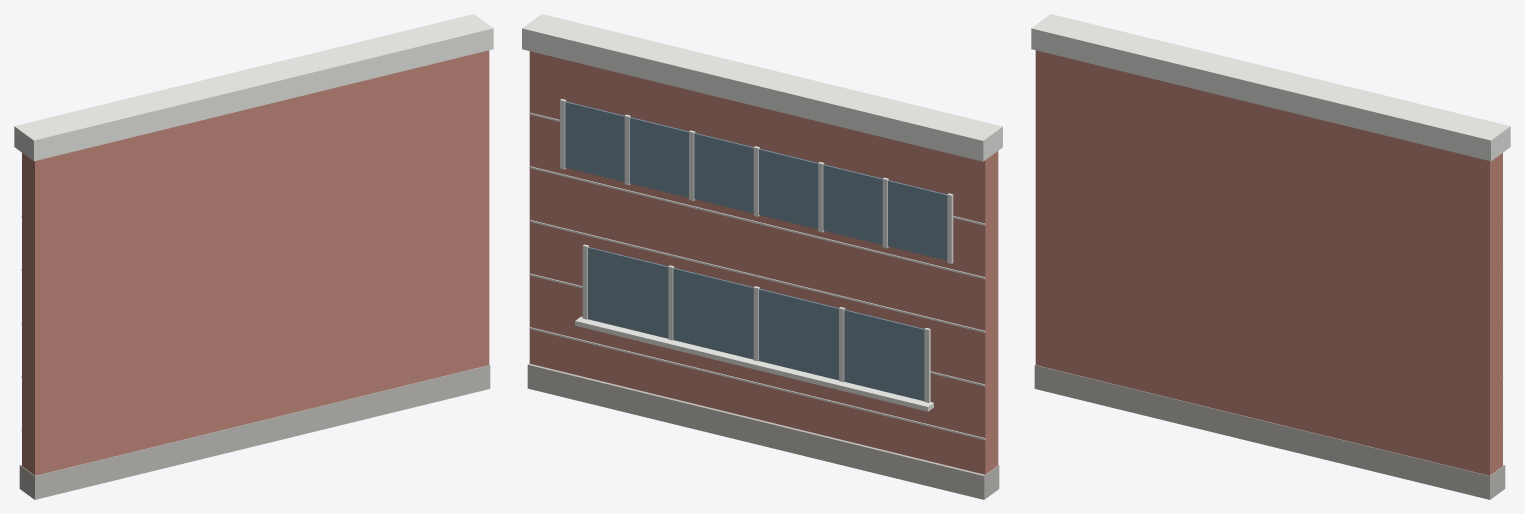
File: gym_facade_window.glb
3 views of the same model, side by side, from view 1: azimuth 30°, elevation 25°; view 2: azimuth 150°, elevation 25°; view 3: azimuth 330°, elevation 25° (orthographic).
Visible parts, largest first — view 1: body; view 2: body; view 3: body.
Boxes of the visible parts, x1,y1,x2,y2 form: body: (14,14,493,499); body: (522,14,1002,499); body: (1031,14,1510,499).
Size of the model in its own units: 8.1 by 6.07 by 0.63.
